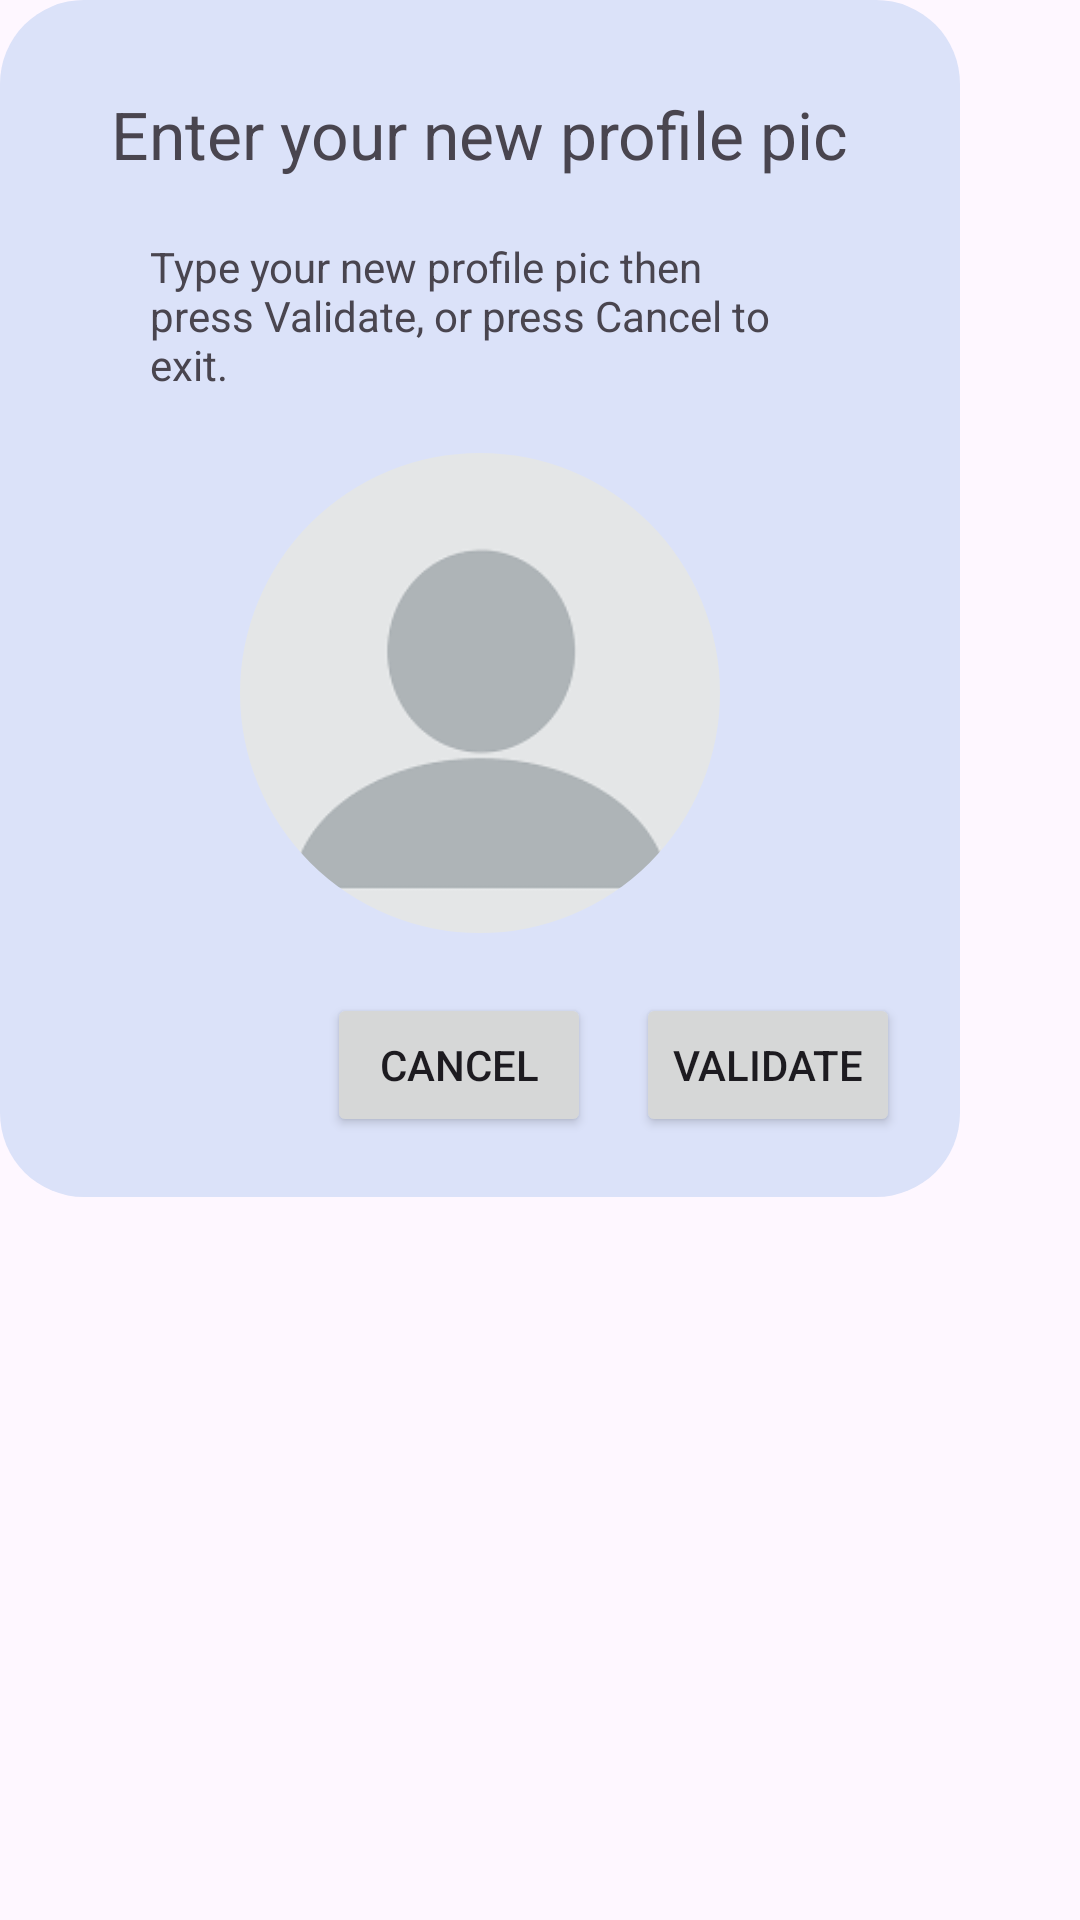

Where icons sit on this 1080w x 1920h app screen, as (x1, y1, x2, y2):
base profile pic: (301, 549, 660, 889)
